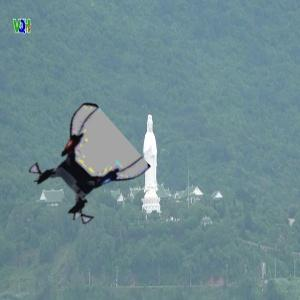drone: (35, 118, 137, 220)
